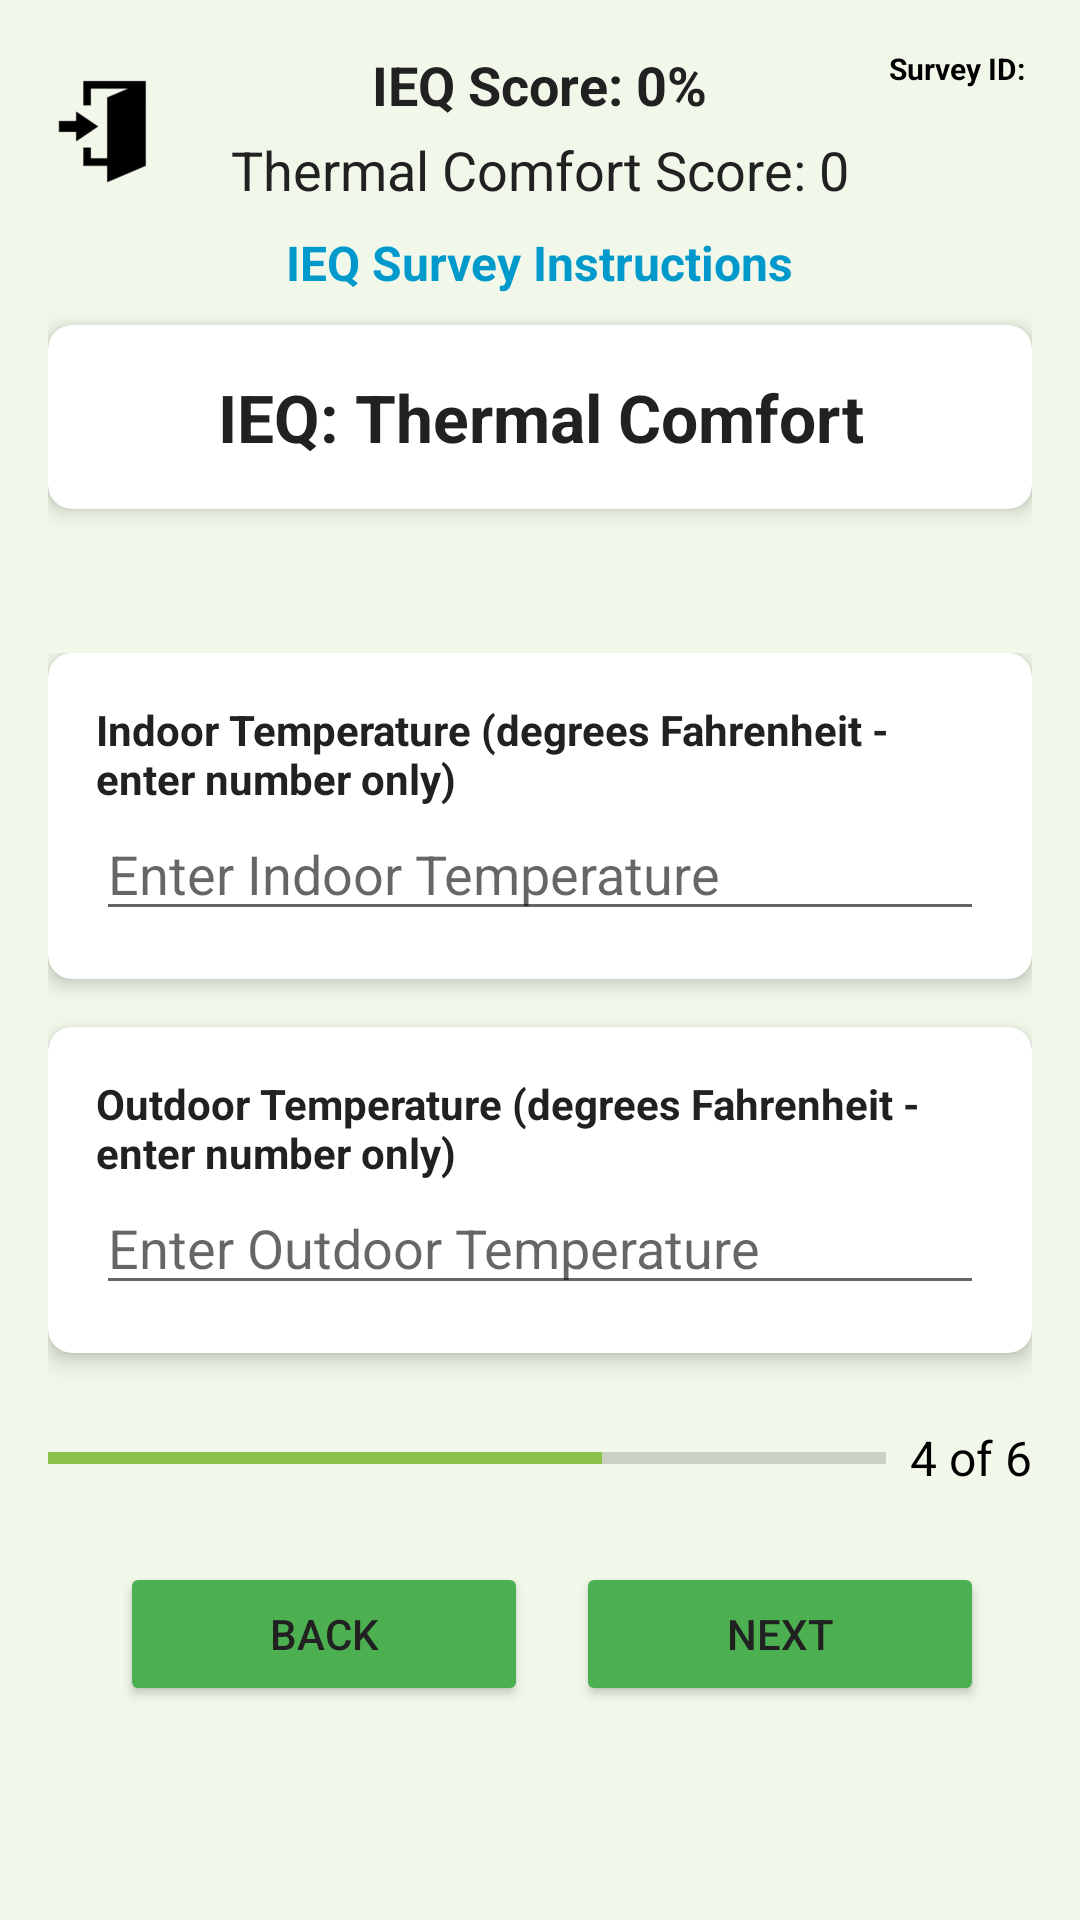

Point at icon controls on the screen. Image size 1080 × 1920, points as [x,y].
exit: [102,131]
